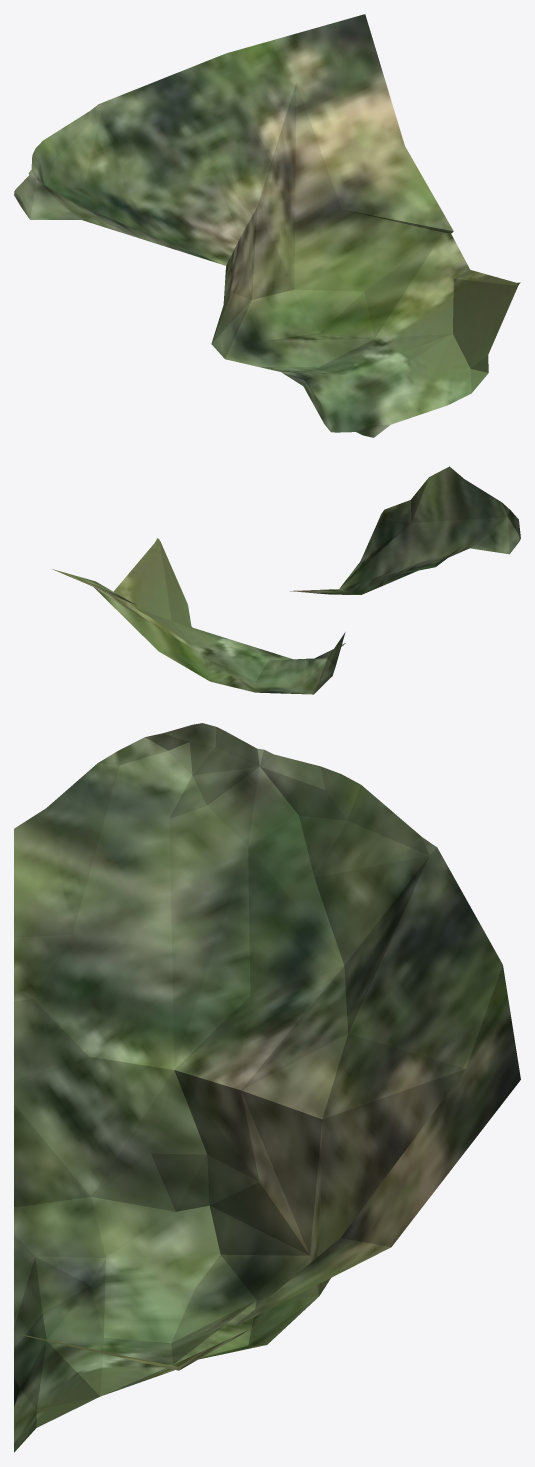
3 views of the same model, one above another, from view 1: azimuth 30°, elevation 25°; view 2: azimuth 150°, elevation 25°; view 3: azimuth 270°, elevation 25° (orthographic). The views are drawn at different scales.
Bounding box in the file's own units: 10.98 × 6.4 × 6.6.
1 material, 1 textured.
